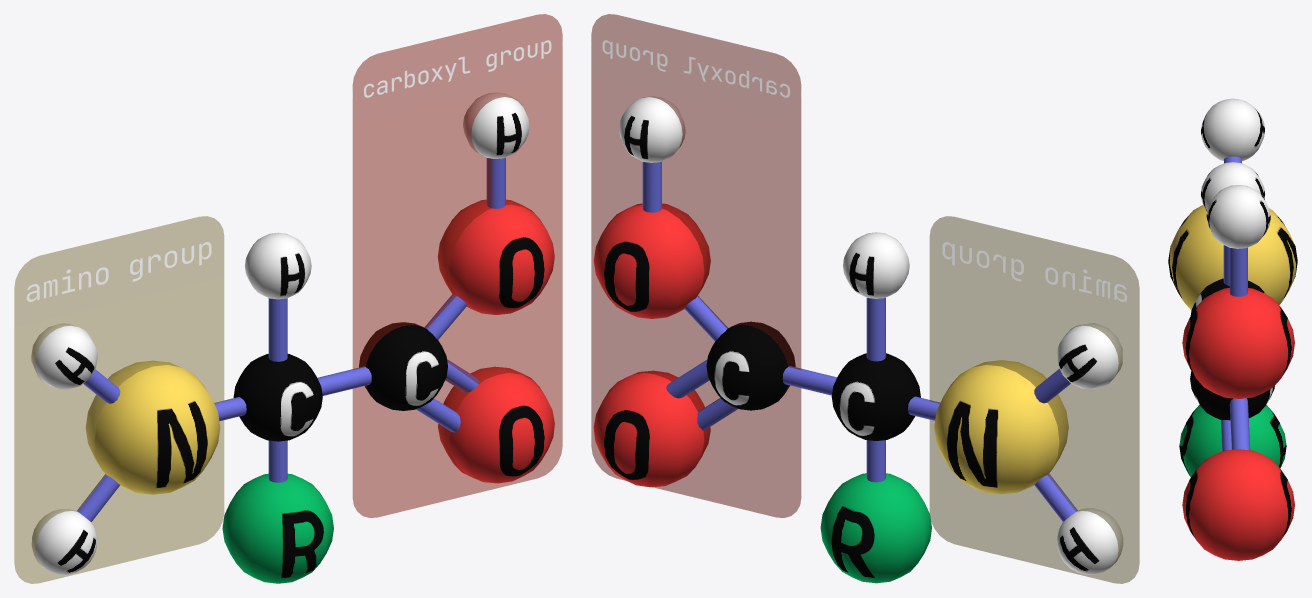
Rendered from chapter-1-section-3-amino-acid.glb.
3 views of the same model, side by side, from view 1: azimuth 30°, elevation 25°; view 2: azimuth 150°, elevation 25°; view 3: azimuth 270°, elevation 25° (orthographic). The views are drawn at different scales.
Visible parts, largest first — view 1: Plane.001, Plane, nitrogen, oxygen.004, oxygen.005, carbon.002, carbon.003, carbon.001, hexagon.032, hexagon.034, hexagon.033, hydrogen.001 (+4 smaller); view 2: Plane.001, Plane, nitrogen, oxygen.004, oxygen.005, carbon.002, carbon.003, carbon.001, hexagon.032, hexagon.034, hexagon.033, hydrogen.001 (+5 smaller); view 3: oxygen.005, oxygen.004, nitrogen, hexagon.032, carbon.002, hexagon.033, hydrogen.001, carbon.003, hexagon.036, carbon.001, hexagon.035, bond.001.
Boxes of the visible parts, x1,y1,x2,y2 form: Plane.001: [352, 14, 562, 517]; Plane: [14, 216, 224, 583]; nitrogen: [85, 360, 220, 494]; oxygen.004: [438, 199, 554, 314]; oxygen.005: [438, 366, 554, 483]; carbon.002: [222, 473, 333, 583]; carbon.003: [359, 322, 447, 410]; carbon.001: [233, 354, 322, 441]; hexagon.032: [463, 92, 529, 208]; hexagon.034: [31, 474, 119, 574]; hexagon.033: [31, 323, 120, 403]; hydrogen.001: [245, 232, 311, 299]; Plane.001: [591, 14, 801, 517]; Plane: [929, 216, 1139, 583]; nitrogen: [934, 360, 1068, 494]; oxygen.004: [593, 203, 710, 318]; oxygen.005: [593, 370, 710, 487]; carbon.002: [820, 473, 931, 583]; carbon.003: [706, 321, 795, 410]; carbon.001: [831, 353, 920, 440]; hexagon.032: [619, 96, 685, 212]; hexagon.034: [1034, 473, 1123, 574]; hexagon.033: [1034, 323, 1122, 403]; hydrogen.001: [843, 232, 909, 298]; oxygen.005: [1182, 449, 1294, 560]; oxygen.004: [1182, 288, 1294, 398]; nitrogen: [1168, 205, 1297, 310]; hexagon.032: [1206, 185, 1270, 296]; carbon.002: [1179, 405, 1286, 476]; hexagon.033: [1201, 98, 1264, 163]; hydrogen.001: [1201, 162, 1264, 211]; carbon.003: [1190, 371, 1274, 420]; hexagon.036: [1229, 398, 1250, 450]; carbon.001: [1190, 278, 1265, 315]; hexagon.035: [1221, 420, 1231, 451]; bond.001: [1223, 245, 1229, 285].
Size of the model in its own units: 4.38 by 3.82 by 0.9315.
10 materials, 7 textured.
